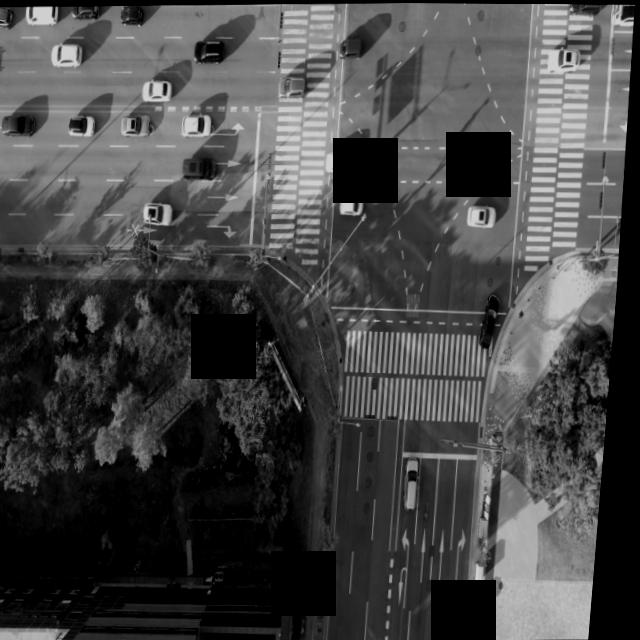car: (545, 41, 585, 74), (484, 290, 507, 344), (326, 142, 360, 175), (411, 457, 430, 511), (182, 157, 218, 182), (2, 112, 38, 137), (50, 41, 84, 67), (278, 72, 310, 98), (467, 203, 500, 228), (141, 76, 174, 100), (338, 29, 366, 57), (194, 38, 225, 63), (146, 201, 174, 226), (24, 5, 57, 26), (122, 113, 151, 135), (184, 113, 212, 135), (340, 195, 366, 217), (70, 113, 96, 135), (120, 4, 146, 24), (72, 4, 101, 20), (616, 4, 635, 27), (569, 3, 604, 14), (0, 5, 15, 25)
